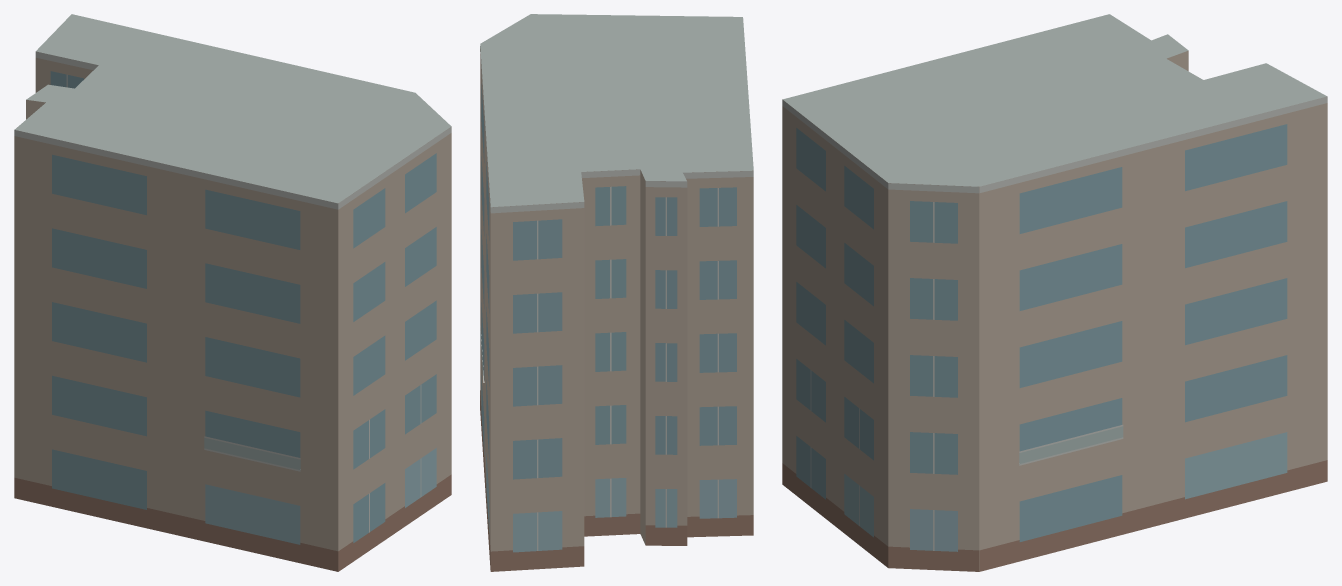
File: survey-upis-32534858.glb
The picture shows the model from 3 angles, left to right: view 1: azimuth 30°, elevation 25°; view 2: azimuth 150°, elevation 25°; view 3: azimuth 270°, elevation 25°; orthographic projection. The views are drawn at different scales.
Parts seen in each view (by area): view 1: survey-upis-32534858.tmp; view 2: survey-upis-32534858.tmp; view 3: survey-upis-32534858.tmp.
Boxes of the visible parts, box(x1,y1,x2,y2) form: survey-upis-32534858.tmp: box(14, 14, 451, 571); survey-upis-32534858.tmp: box(480, 14, 753, 571); survey-upis-32534858.tmp: box(782, 14, 1327, 571).
Bounding box in the file's own units: 13.87 × 14.4 × 18.48.
